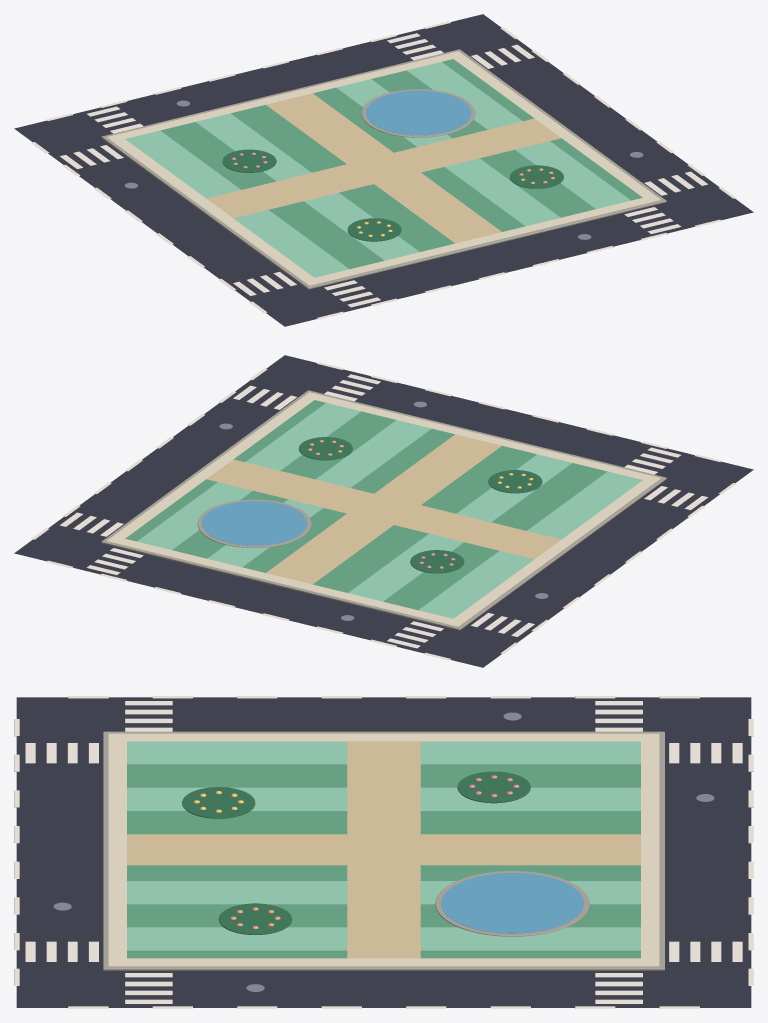
Rendered from tile_park.glb.
3 renders of one model, top to bottom at view 1: azimuth 30°, elevation 25°; view 2: azimuth 150°, elevation 25°; view 3: azimuth 270°, elevation 25°, orthographic. The views are drawn at different scales.
Visible parts, largest first — view 1: tile_park; view 2: tile_park; view 3: tile_park.
Boxes of the visible parts, x1=… form: tile_park: x1=14, y1=14, x2=753, y2=326; tile_park: x1=14, y1=355, x2=753, y2=667; tile_park: x1=14, y1=696, x2=753, y2=1008.
Size of the model in its own units: 40.3 by 0.3296 by 40.3.
1 material, 1 textured.
